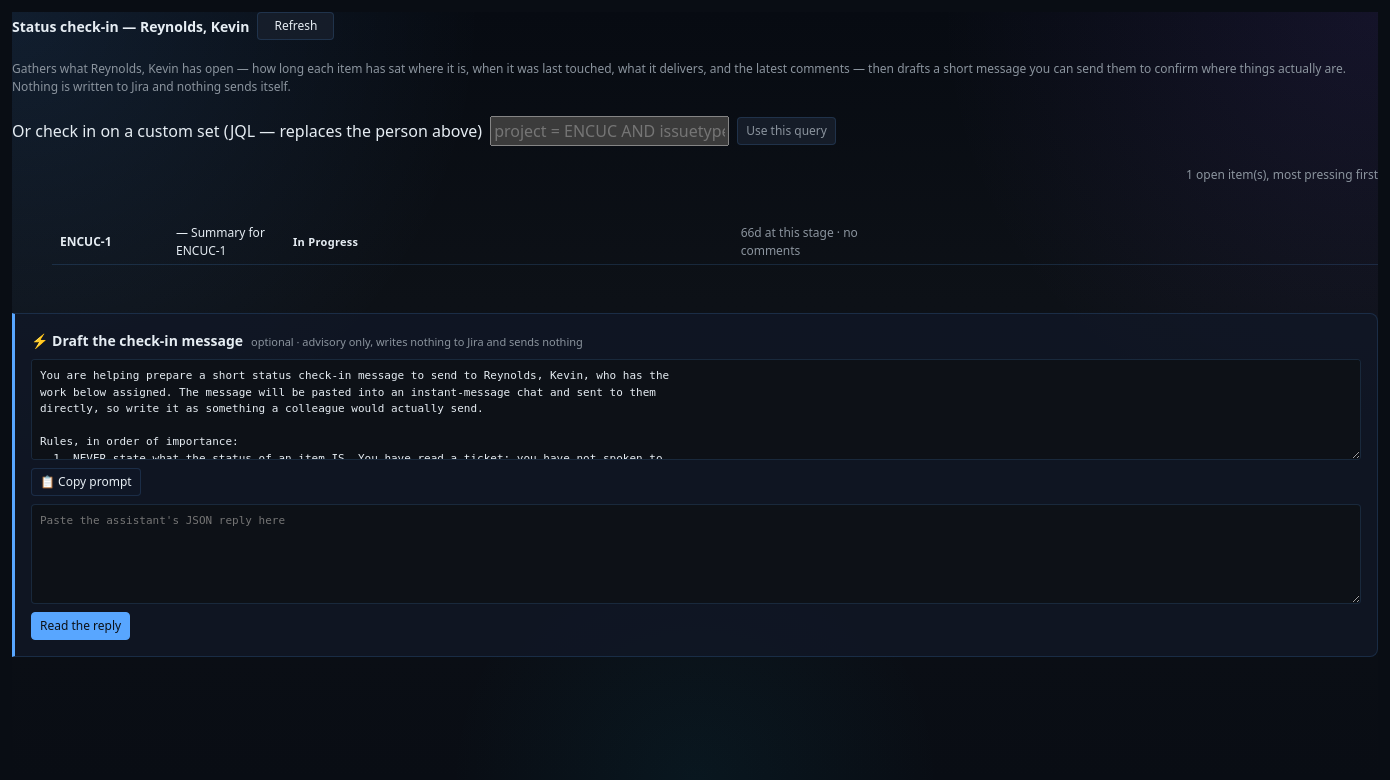
Test: CheckInTab custom query › offers a way back to the person
Expected: the list named "Work to check in on" is shown, [12,220,1378,265]
Step 1. Type "issuetype = Defect" into the field labelled "custom set" → (610, 131), box [490,116,729,146]
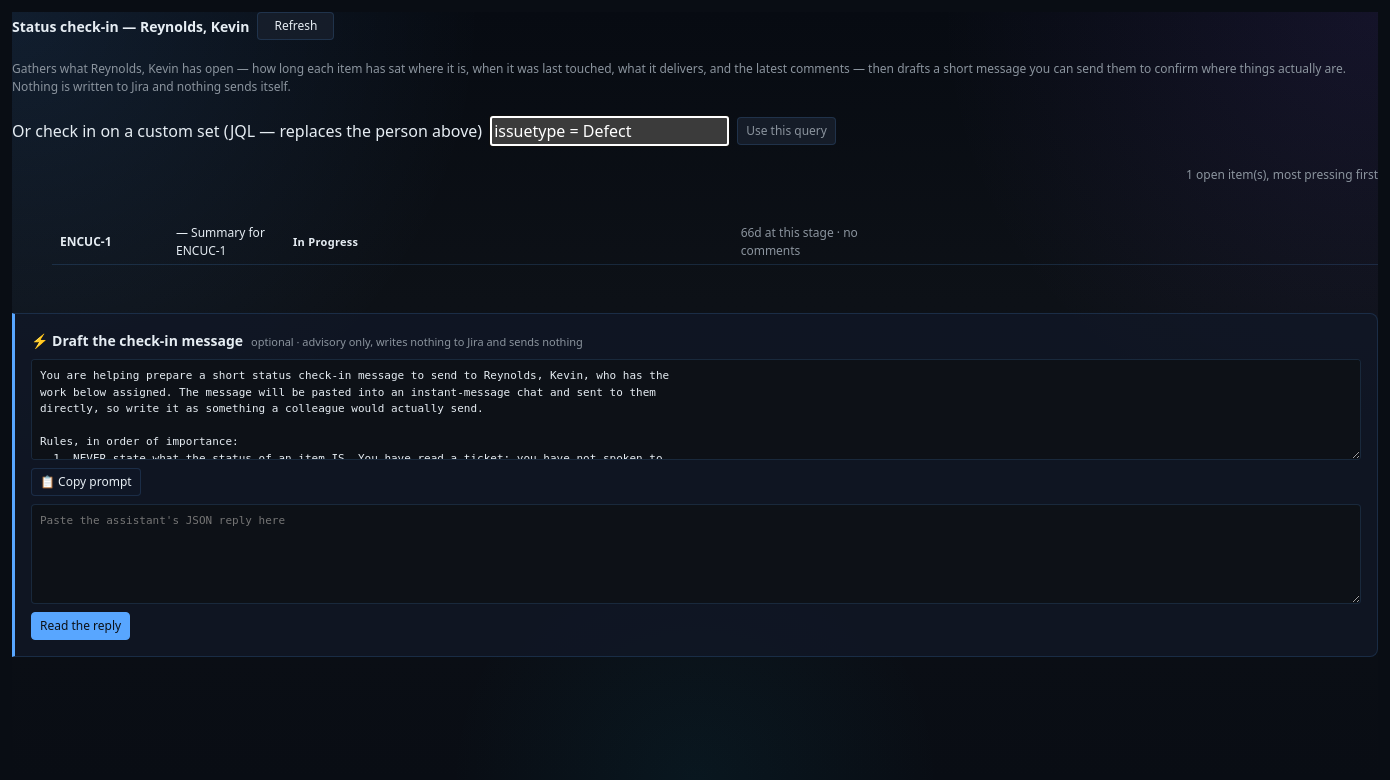
Step 2. Click the button "Use this query" → (787, 131), box [737,117,836,145]
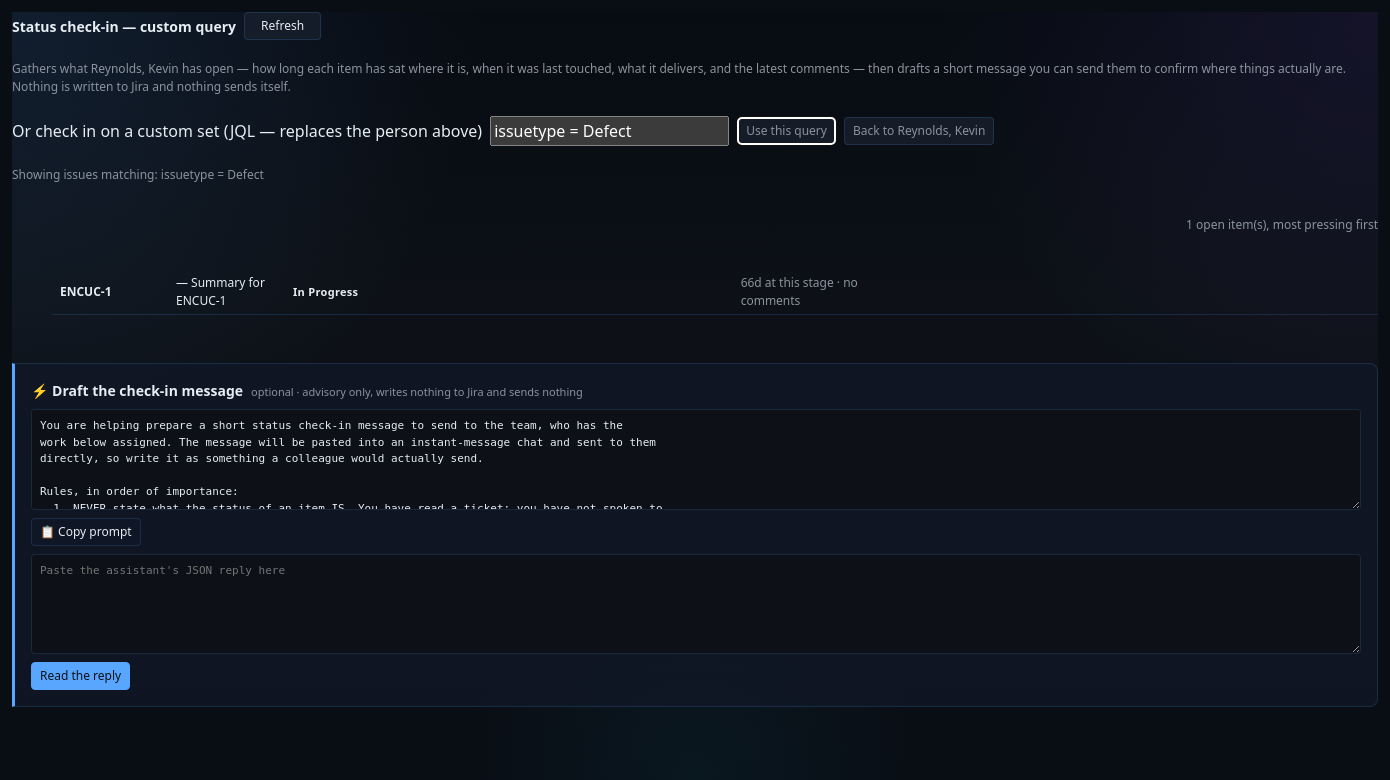
Step 3. Click the button "Back to Reynolds, Kevin" → (919, 131), box [844,117,994,145]
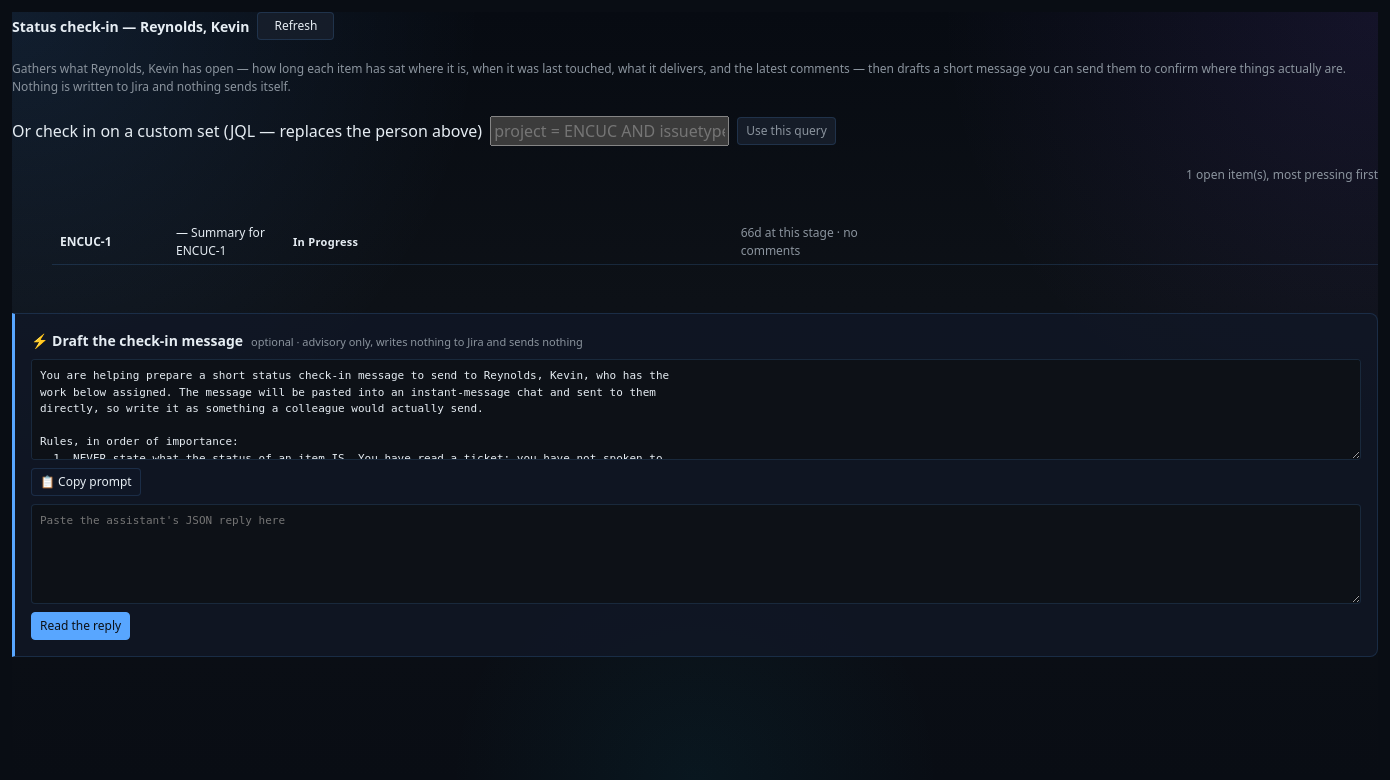
Result: the heading "Status check-in — Reynolds, Kevin" is shown at [12,16,249,36]
